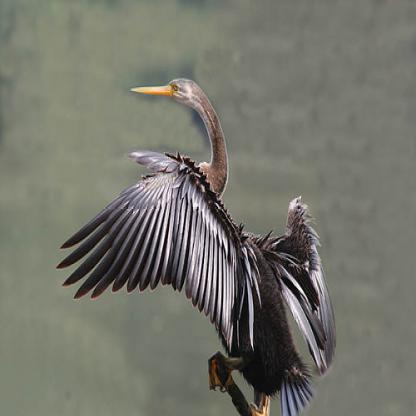bird: (55, 76, 336, 415)
